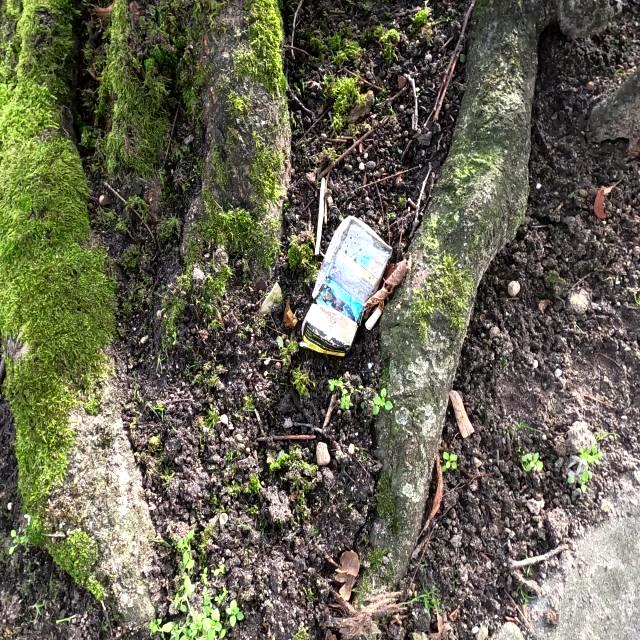Paper: (298, 213, 394, 359)
